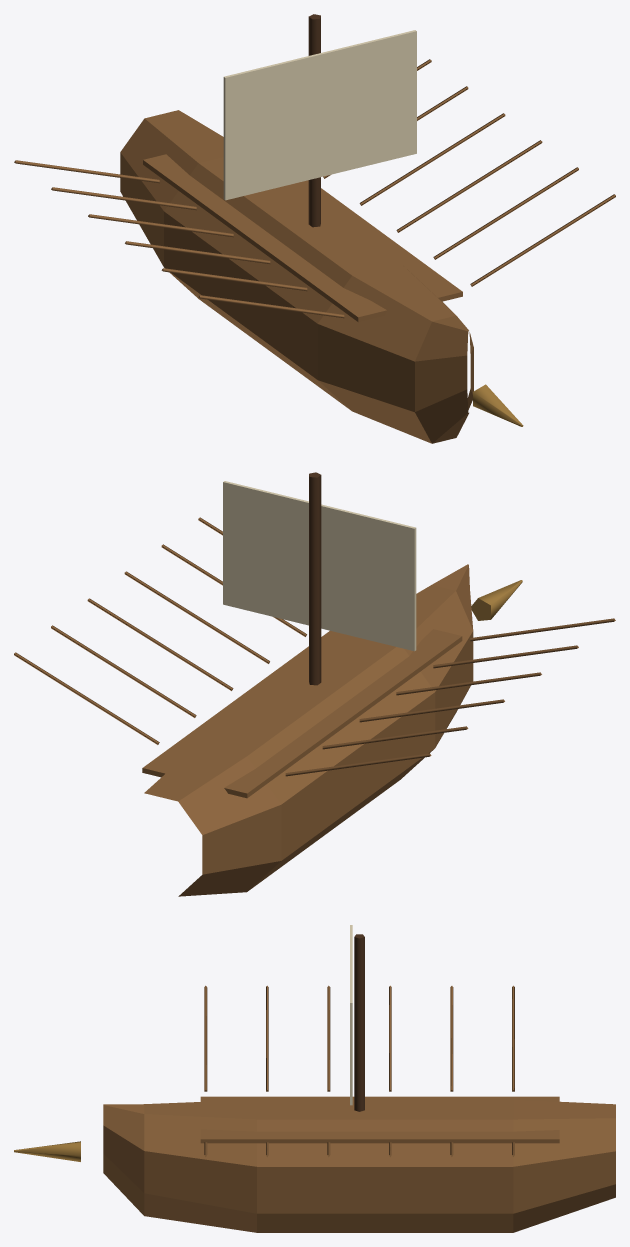
File: veh_naval_warship_a01.glb
The picture shows the model from 3 angles, top to bottom: view 1: azimuth 30°, elevation 25°; view 2: azimuth 150°, elevation 25°; view 3: azimuth 270°, elevation 25°; orthographic projection. The views are drawn at different scales.
Parts seen in each view (by area): view 1: body, sail_0; view 2: body, sail_0; view 3: body, sail_0.
Part boxes in pixels (<box>): body: <box>14,14,615,443</box>; sail_0: <box>223,30,416,200</box>; body: <box>14,472,615,896</box>; sail_0: <box>223,481,416,651</box>; body: <box>14,934,615,1232</box>; sail_0: <box>350,925,352,1105</box>.
Size of what is drawn, in the model's own units: 7.2 by 5.68 by 10.8.
